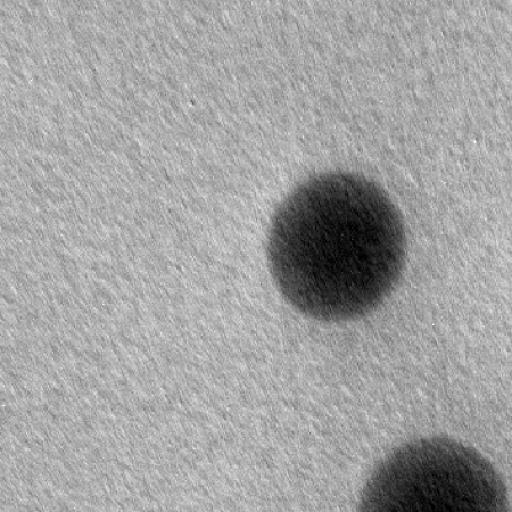Nanoparticles: (262, 169, 410, 321), (358, 437, 502, 511)
